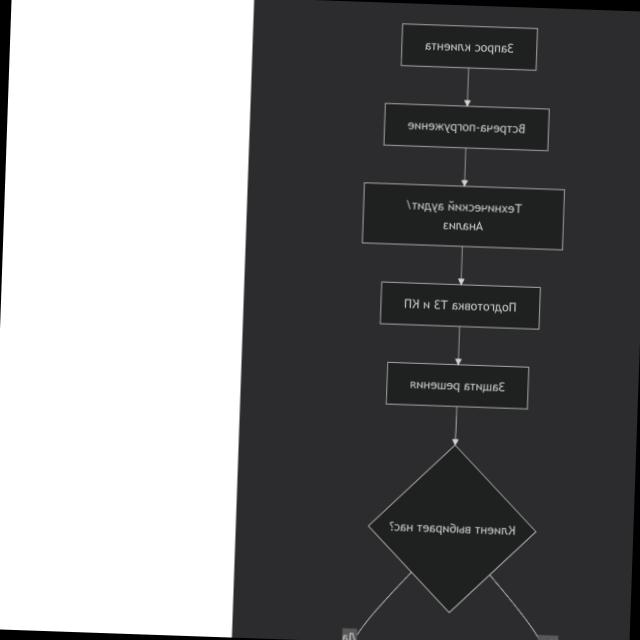arrow: (461, 148, 466, 186), (458, 246, 463, 284), (452, 407, 457, 444), (455, 327, 460, 364), (464, 68, 469, 105)
diamond: (369, 446, 533, 611)
rectangle: (362, 182, 564, 250), (384, 103, 548, 150), (380, 282, 540, 330), (386, 363, 528, 409), (401, 24, 536, 70)
